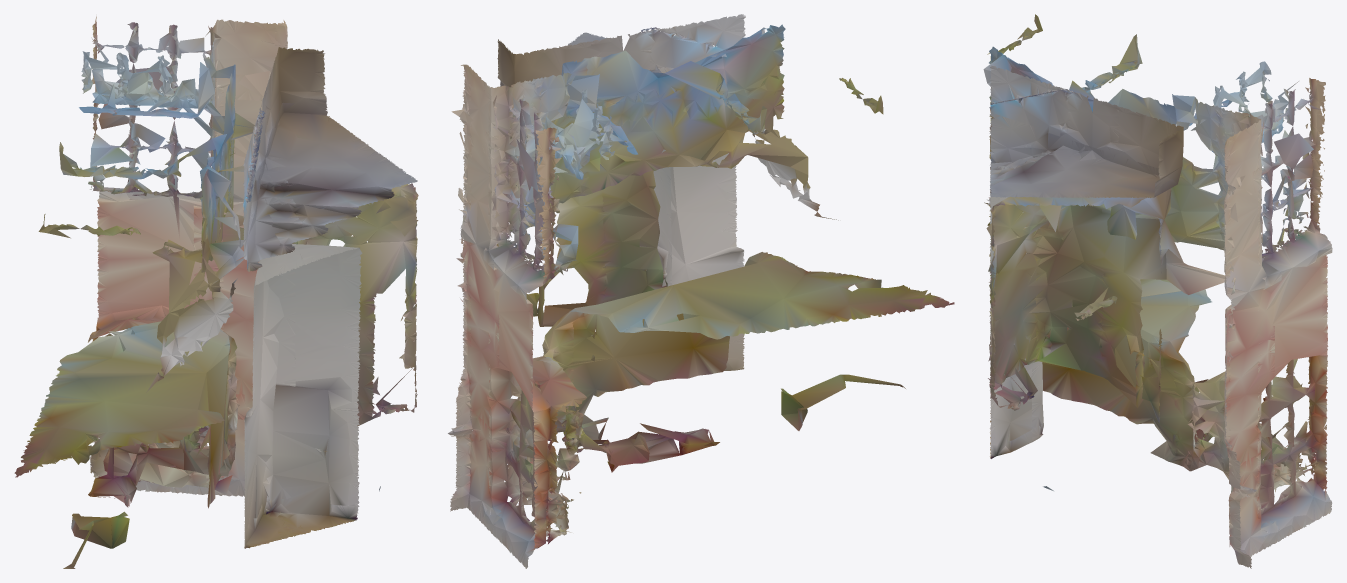
3 renders of one model, left to right at view 1: azimuth 30°, elevation 25°; view 2: azimuth 150°, elevation 25°; view 3: azimuth 270°, elevation 25°, orthographic. The views are drawn at different scales.
Size of the model in its own units: 6.89 by 7.5 by 5.55.
